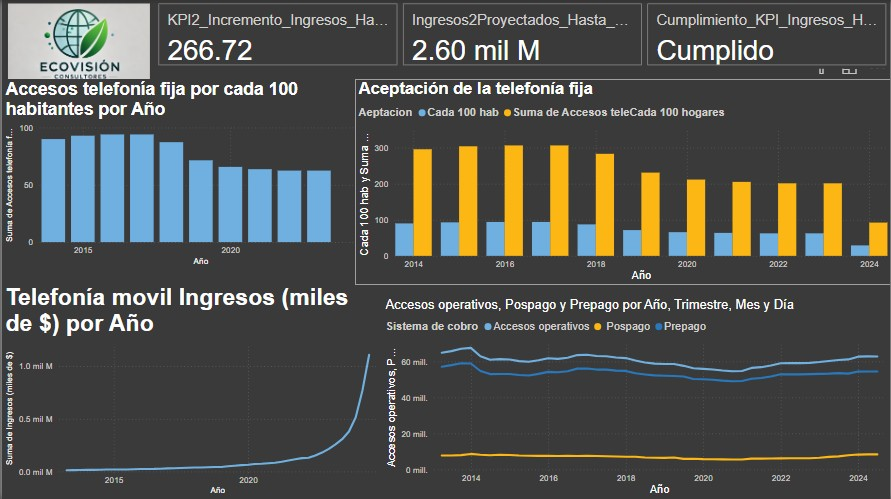

Layout of this report page (visuals, bound fields, positions):
{"tool":"powerbi","page":{"name":"Página 1","canvas":[1280,720],"ordinal":3},"visuals":[{"type":"image","box":[0,0,220.4,137.7],"z":0},{"type":"lineChart","title":"Telefonía movil Ingresos (miles de $) por Año","fields":{"Y":["Sum(Ingresos telefonia movil.Ingresos (miles de $))"],"Category":["Ingresos telefonia movil.Fecha.Variación.Jerarquía de fechas.Año","Ingresos telefonia movil.Fecha.Variación.Jerarquía de fechas.Trimestre","Ingresos telefonia movil.Fecha.Variación.Jerarquía de fechas.Mes","Ingresos telefonia movil.Fecha.Variación.Jerarquía de fechas.Día"]},"box":[0,408.7,547.7,309.1],"z":1000},{"type":"clusteredColumnChart","title":"Accesos telefonía fija por cada 100 habitantes por Año ","fields":{"Category":["Fija_penetracion_tot.Fecha.Variación.Jerarquía de fechas.Año","Fija_penetracion_tot.Fecha.Variación.Jerarquía de fechas.Trimestre","Fija_penetracion_tot.Fecha.Variación.Jerarquía de fechas.Mes","Fija_penetracion_tot.Fecha.Variación.Jerarquía de fechas.Día"],"Y":["Sum(Fija_penetracion_tot.Accesos telefonía fija por cada 100 hab)"]},"box":[0,114.1,522.8,273.8],"z":2000},{"type":"lineChart","fields":{"Category":["Accesos telefonia movil.Fecha.Variación.Jerarquía de fechas.Año","Accesos telefonia movil.Fecha.Variación.Jerarquía de fechas.Trimestre","Accesos telefonia movil.Fecha.Variación.Jerarquía de fechas.Mes","Accesos telefonia movil.Fecha.Variación.Jerarquía de fechas.Día"],"Y":["Sum(Accesos telefonia movil.Total de accesos operativos)","Sum(Accesos telefonia movil.Total de accesos pospago)","Sum(Accesos telefonia movil.Total de accesos prepago)"]},"box":[547.7,427.4,732.3,290.4],"z":3000},{"type":"clusteredColumnChart","title":"Aceptación de la telefonía fija","fields":{"Y":["Sum(Fija_penetracion_tot.Accesos telefonía fija por cada 100 hab)","Sum(Fija_penetracion_tot.Accesos telefonía fija por cada 100 hogares)"],"Category":["Fija_penetracion_tot.Fecha.Variación.Jerarquía de fechas.Año"]},"box":[508.3,114.1,771.7,296.7],"z":4000},{"type":"cardVisual","fields":{"Data":["Ingresos telefonia movil.KPI2_Incremento_Ingresos_Hasta_30Jun2024","Ingresos telefonia movil.Ingresos2Proyectados_Hasta_30Jun2024","Ingresos telefonia movil.Cumplimiento_KPI_Ingresos_Hasta_30Jun2024"]},"box":[220.1,0,1059.9,99.5],"z":5000}]}

Visuals, with their boxes in screenshot pixels (x1, y1, x2, y2), scaled from the page's 1280x720 canvas onto the 891x499 screenshot:
image: box(0, 0, 153, 95)
"Telefonía movil Ingresos (miles de $) por Año" lineChart: box(0, 283, 381, 497)
"Accesos telefonía fija por cada 100 habitantes por Año " clusteredColumnChart: box(0, 79, 364, 269)
lineChart - Accesos telefonia movil.Fecha.Variación.Jerarquía de fechas.Año x Accesos telefonia movil.Fecha.Variación.Jerarquía de fechas.Trimestre: box(381, 296, 890, 497)
"Aceptación de la telefonía fija" clusteredColumnChart: box(354, 79, 890, 285)
cardVisual - Ingresos telefonia movil.KPI2_Incremento_Ingresos_Hasta_30Jun2024 x Ingresos telefonia movil.Ingresos2Proyectados_Hasta_30Jun2024: box(153, 0, 890, 69)
